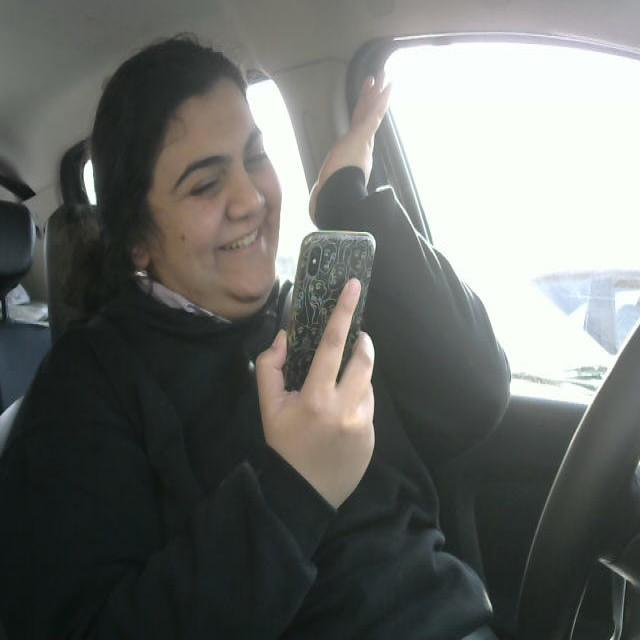mobile use: (278, 220, 377, 439)
